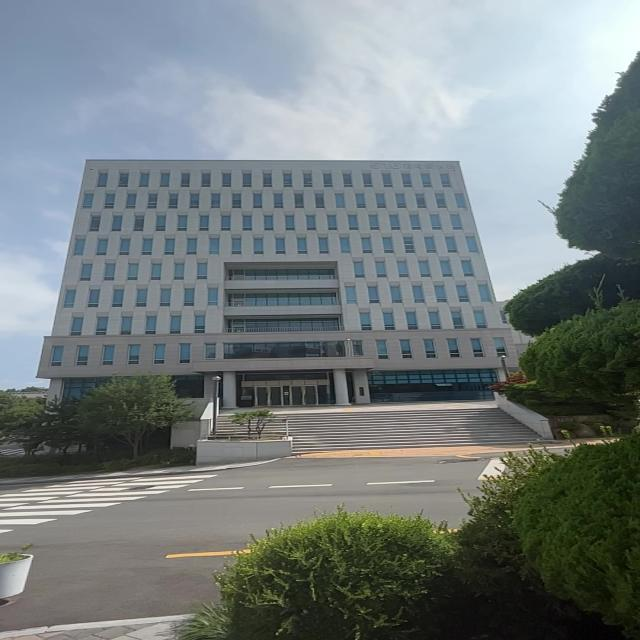building: (35, 140, 512, 393)
